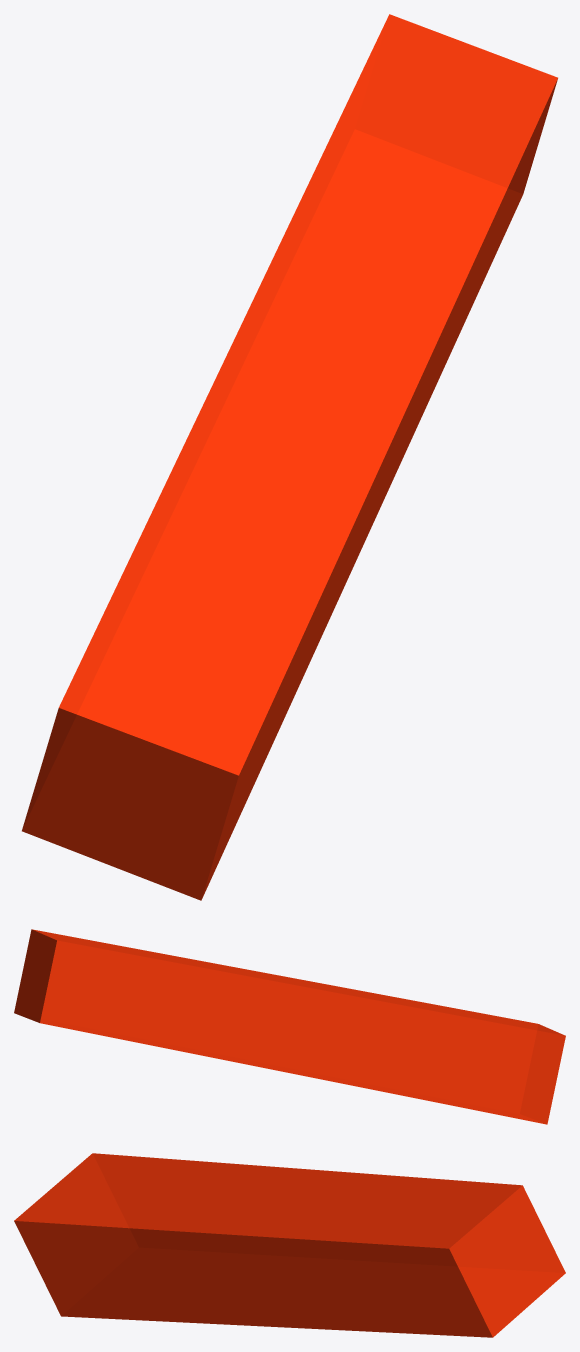
The model's file is Event_421115418_EBrechit_9.fbx.
The picture shows the model from 3 angles, top to bottom: view 1: azimuth 30°, elevation 25°; view 2: azimuth 150°, elevation 25°; view 3: azimuth 270°, elevation 25°; orthographic projection. The views are drawn at different scales.
Visible parts, largest first — view 1: Model; view 2: Model; view 3: Model.
Part boxes in pixels (x1,y1,x2,y2): Model: [22, 14, 557, 900]; Model: [14, 929, 565, 1124]; Model: [14, 1153, 565, 1337].
Bounding box in the file's own units: 0.2956 × 0.1733 × 0.2877.
